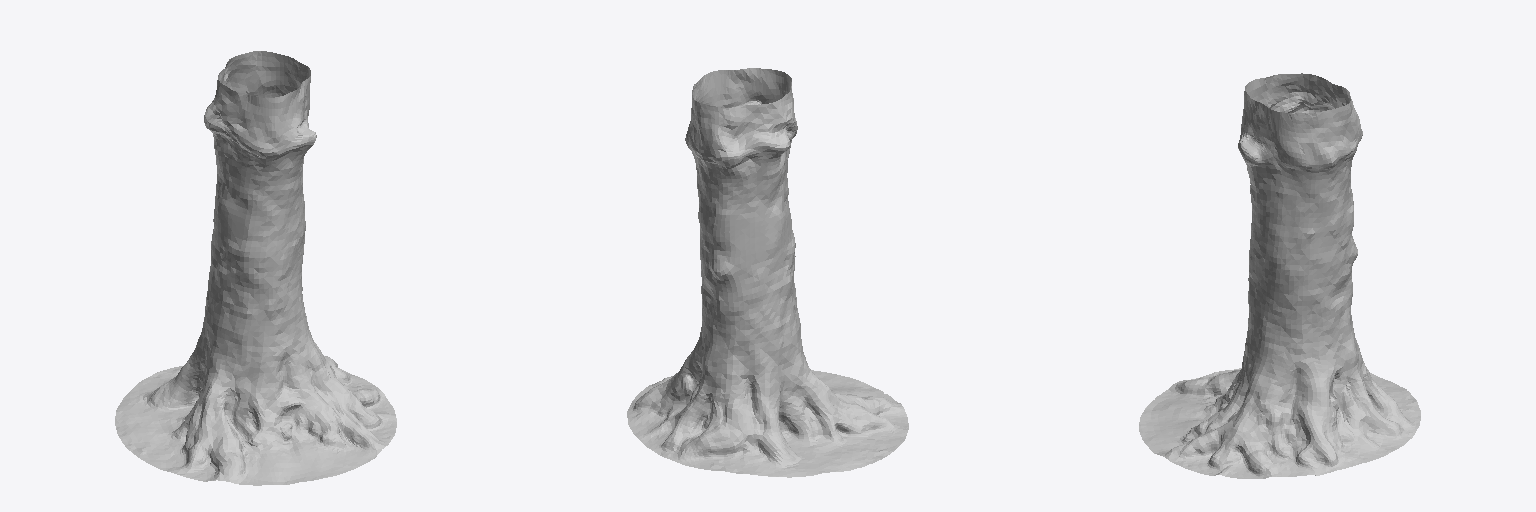
Rendered from tree_trunk_002.obj.
The picture shows the model from 3 angles: view 1: azimuth 30°, elevation 25°; view 2: azimuth 150°, elevation 25°; view 3: azimuth 270°, elevation 25°; orthographic projection.
Visible parts, largest first — view 1: tree.trunk.002_mesh; view 2: tree.trunk.002_mesh; view 3: tree.trunk.002_mesh.
Part boxes in pixels (x1,y1,x2,y2): tree.trunk.002_mesh: (115, 51, 396, 485); tree.trunk.002_mesh: (627, 68, 908, 477); tree.trunk.002_mesh: (1139, 73, 1420, 478).
Size of the model in its own units: 2.08 by 2.78 by 2.08.